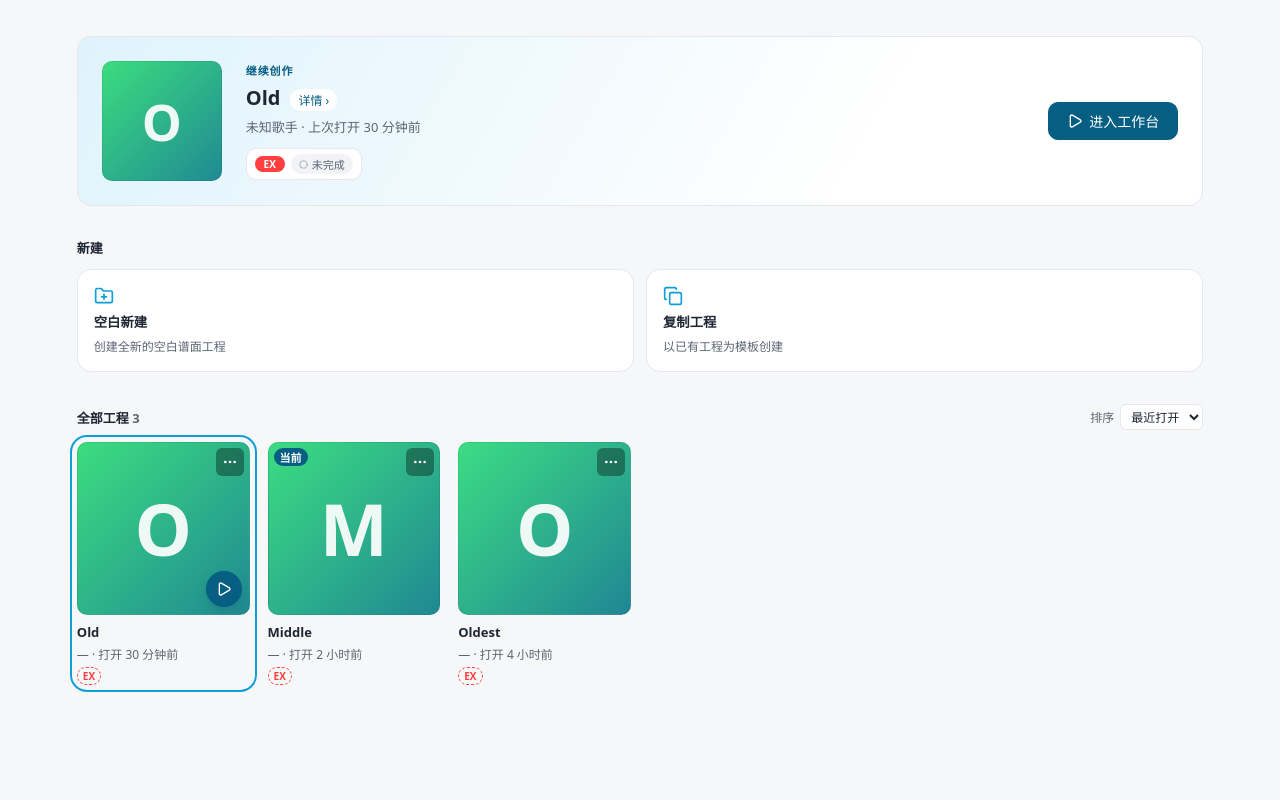
issue 40 · 手动浏览焦点让位（定案 Q2） › e2) 编辑工程信息（hub 不卸载）：手动焦点不动，横幅仍是浏览中的工程
Expected: the heading "全部工程 3" is shown, [77,408,140,426]
Press ArrowRight
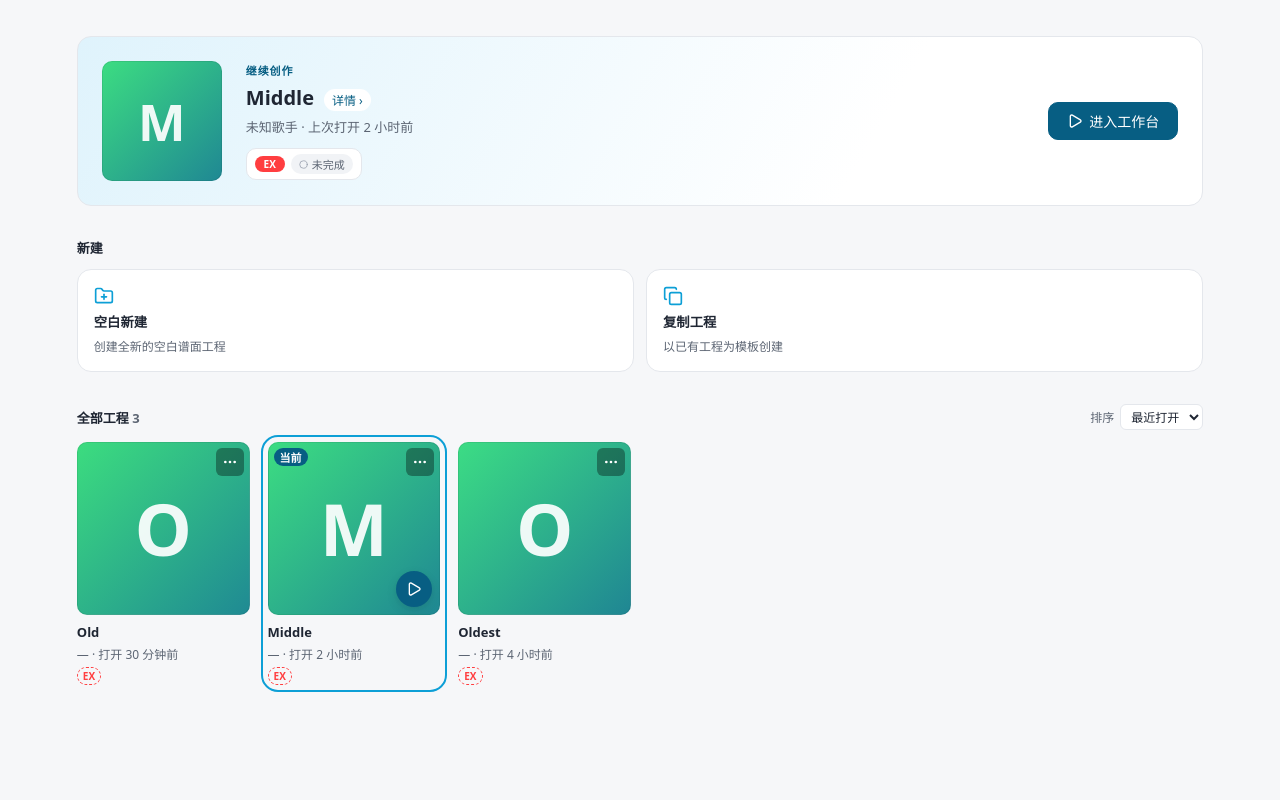
Press ArrowRight
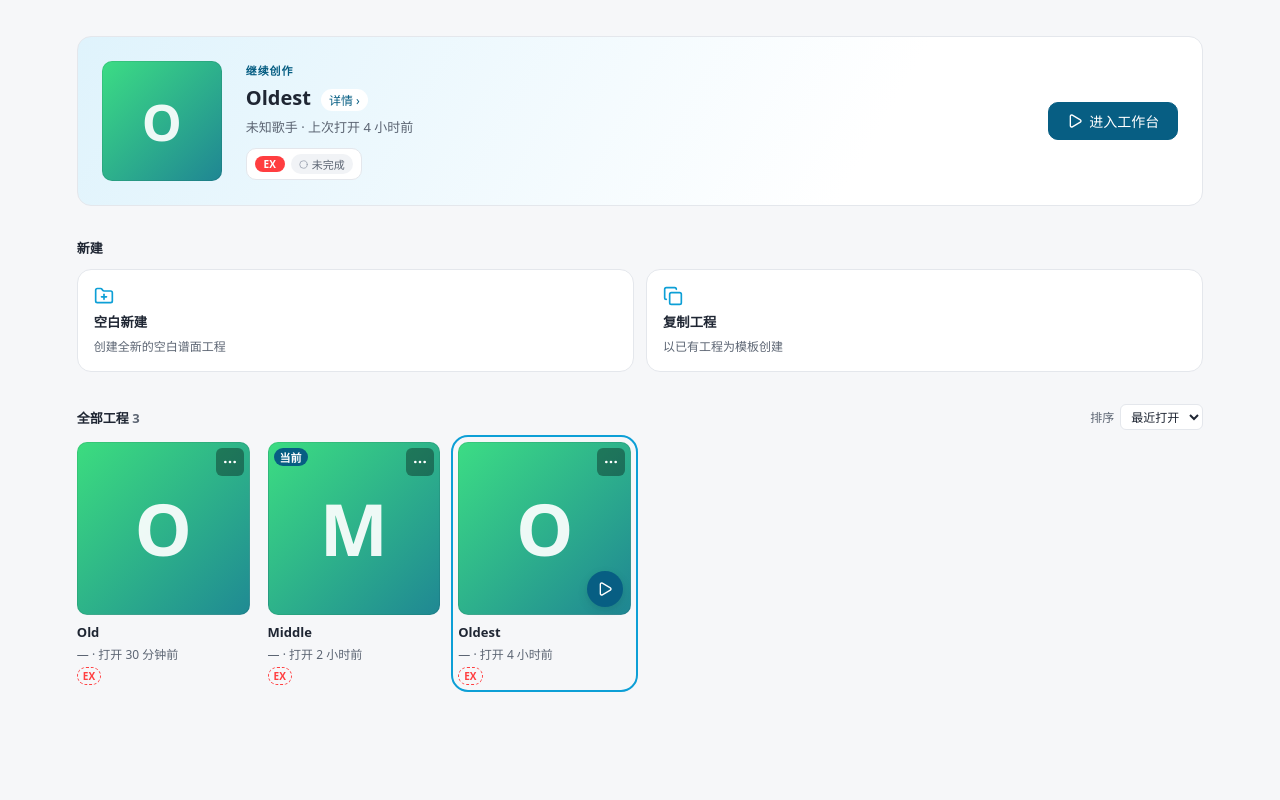
Result: the heading "Oldest 详情 ›" is shown at [246,84,368,111]
Note: 卡片 ⋯ 菜单 → 编辑工程信息，改 p1 的名字（弹窗路径：hub 不卸载，列表 reload）
Click the 1st element with class "pp-menu__trigger": click(230, 462) [216,448,244,476]
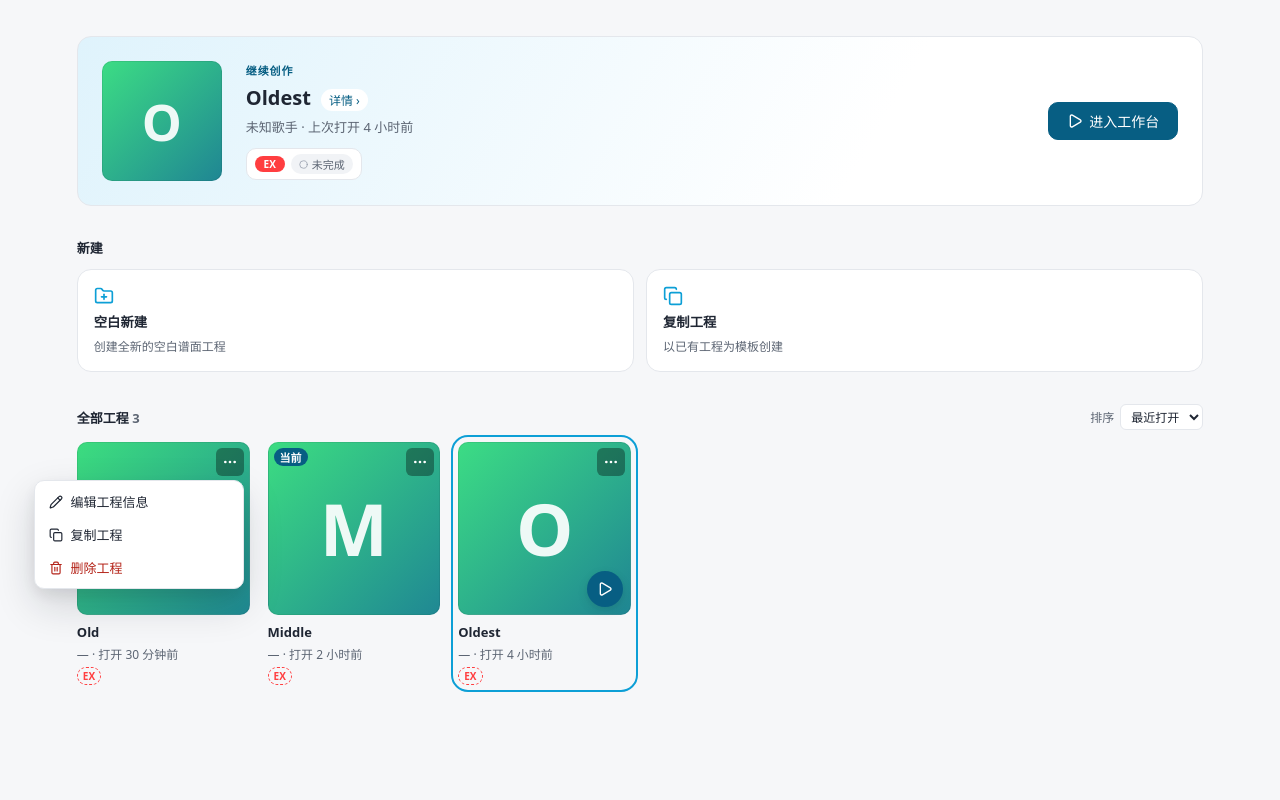
Click the button "编辑工程信息": click(138, 502) [38,485,238,518]
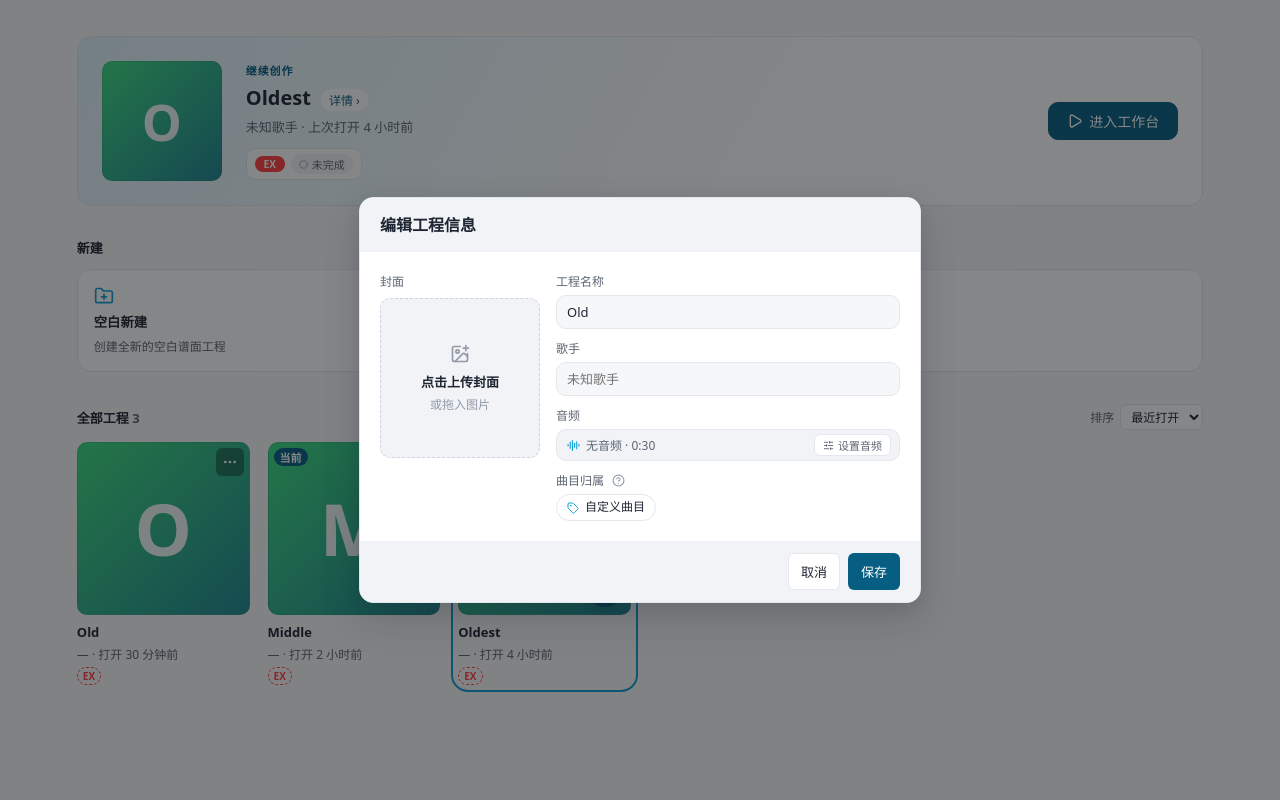
Replace the text in the field labelled "工程名称" with "Renamed": (728, 312) [556,295,900,329]
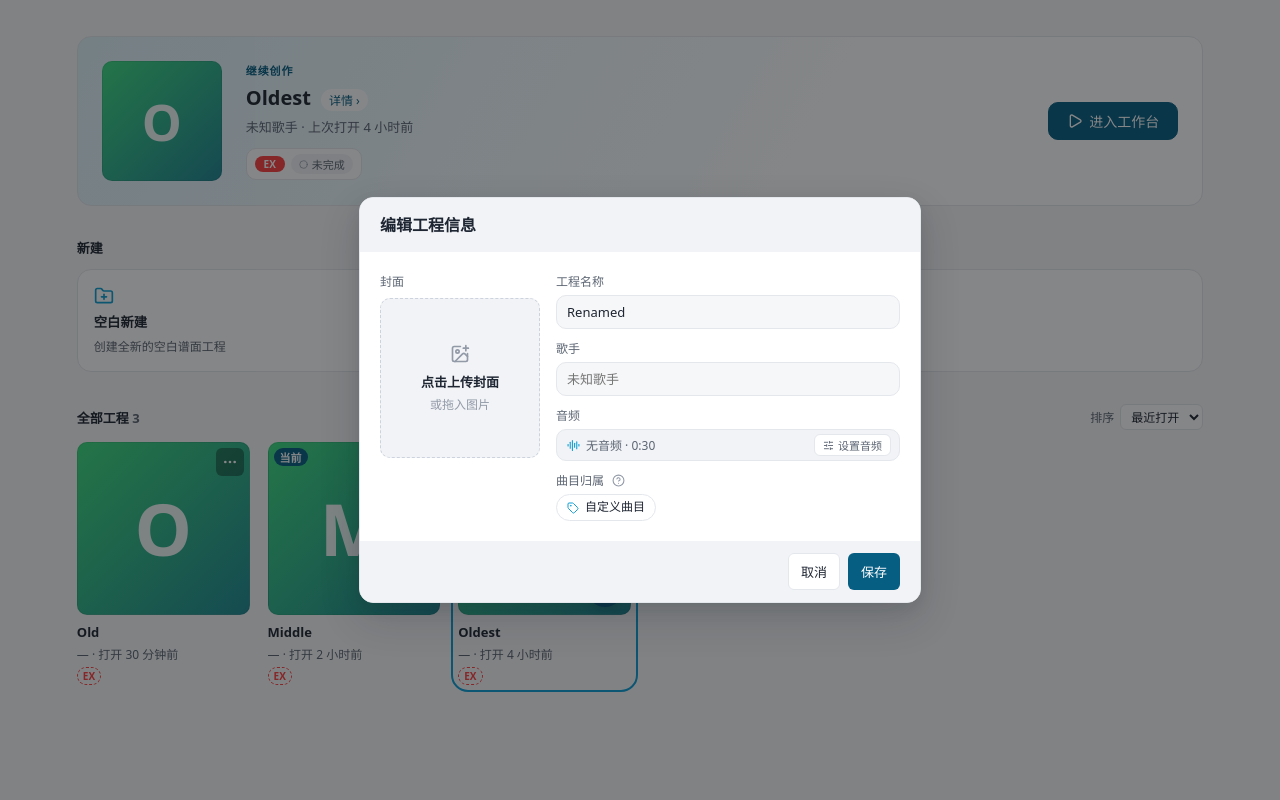
Click the button "保存": click(874, 572) [848,553,900,590]
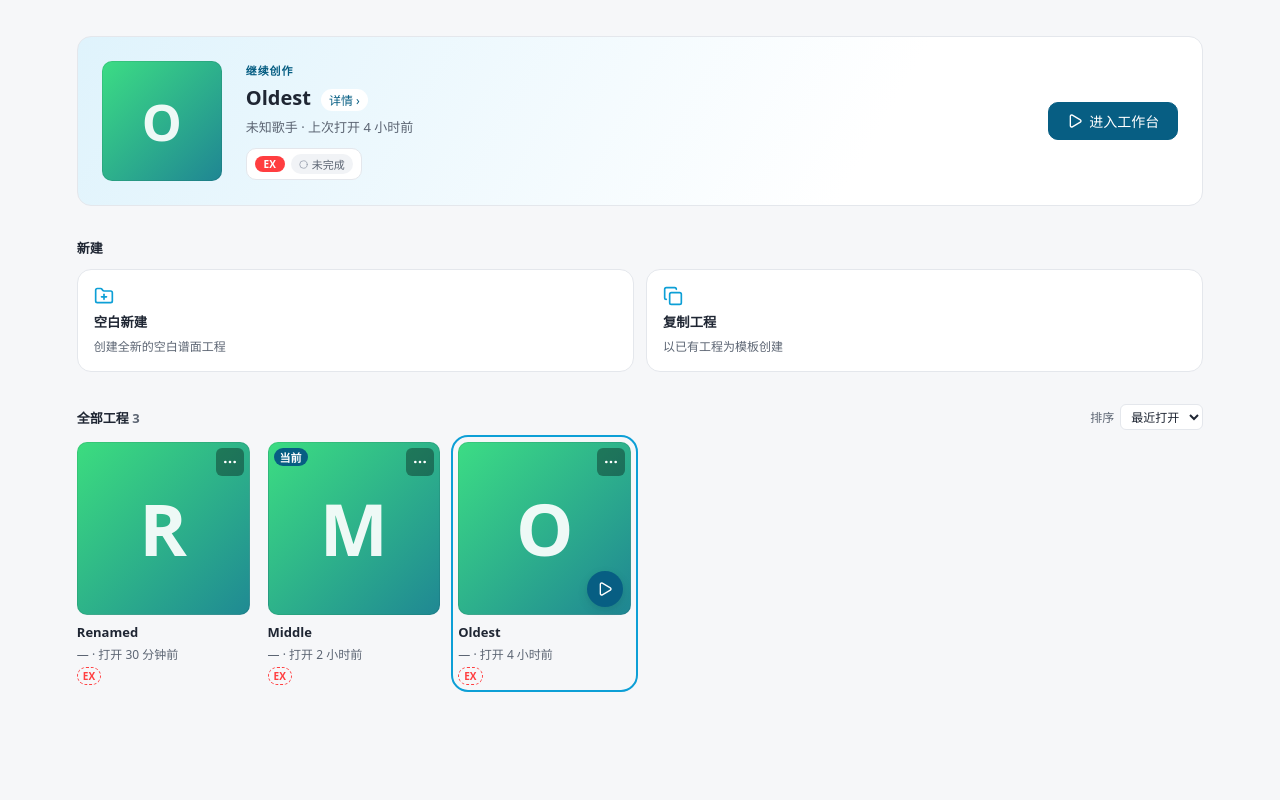
Result: the heading "Oldest 详情 ›" is shown at [246,84,368,111]
Result: the text "Renamed" is shown at [77,623,138,641]
